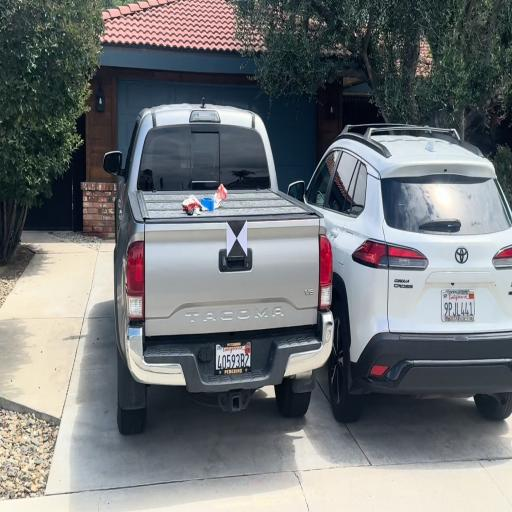target: (227, 220, 247, 256)
